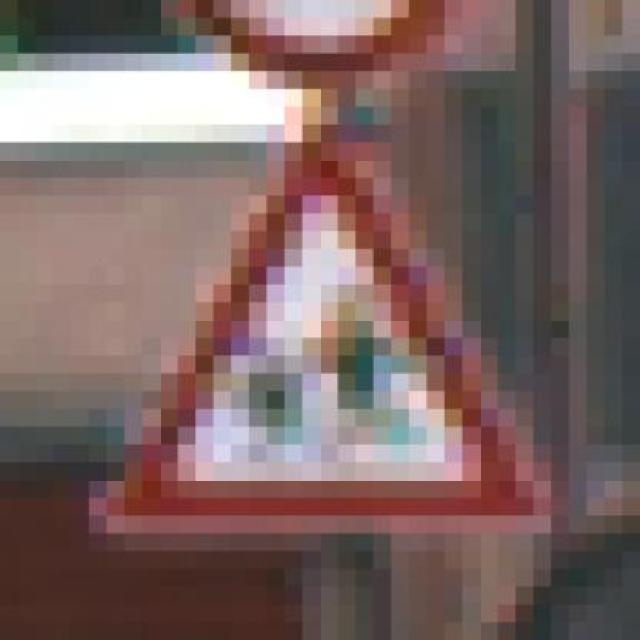Beware of children: (89, 124, 569, 551)
